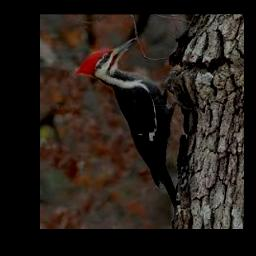Woodpecker: (74, 38, 178, 216)
